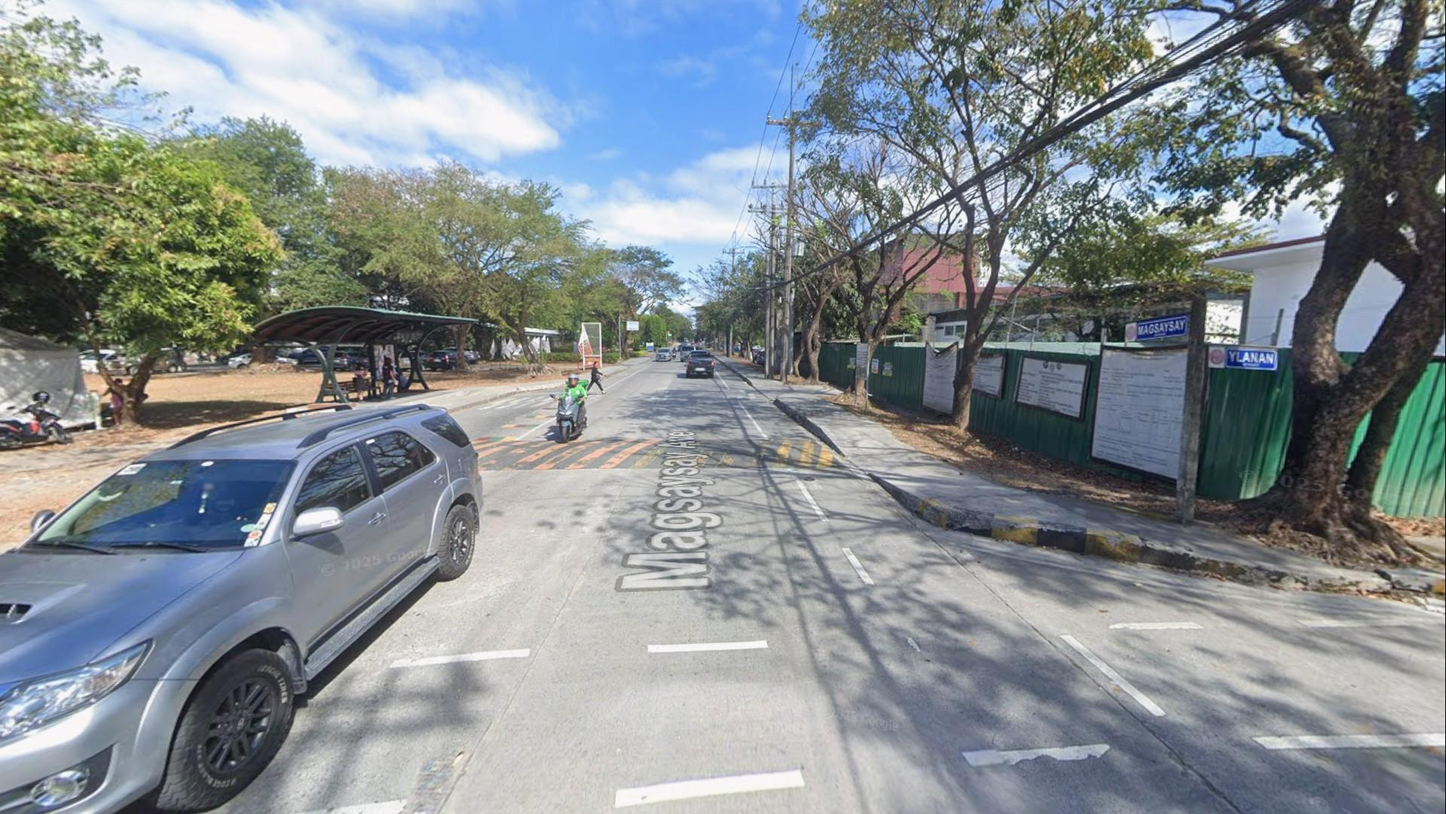pedestrian: (104, 375, 126, 427), (352, 350, 371, 402), (585, 359, 610, 397), (380, 355, 396, 400)
